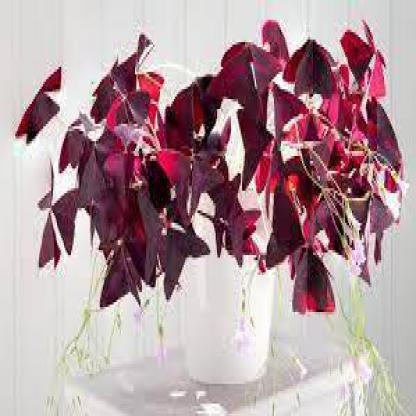Kupu-Kupu: (103, 145, 202, 316), (274, 192, 336, 323), (203, 26, 283, 105), (85, 36, 158, 115), (16, 51, 68, 147), (342, 21, 393, 95)
